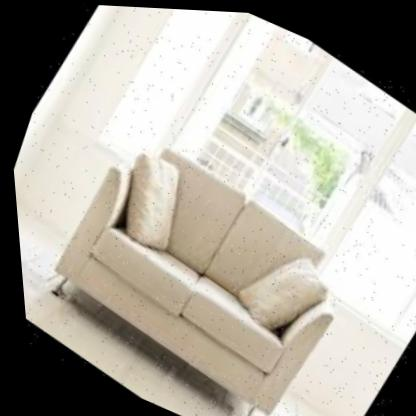Sofa: (4, 70, 416, 416)
